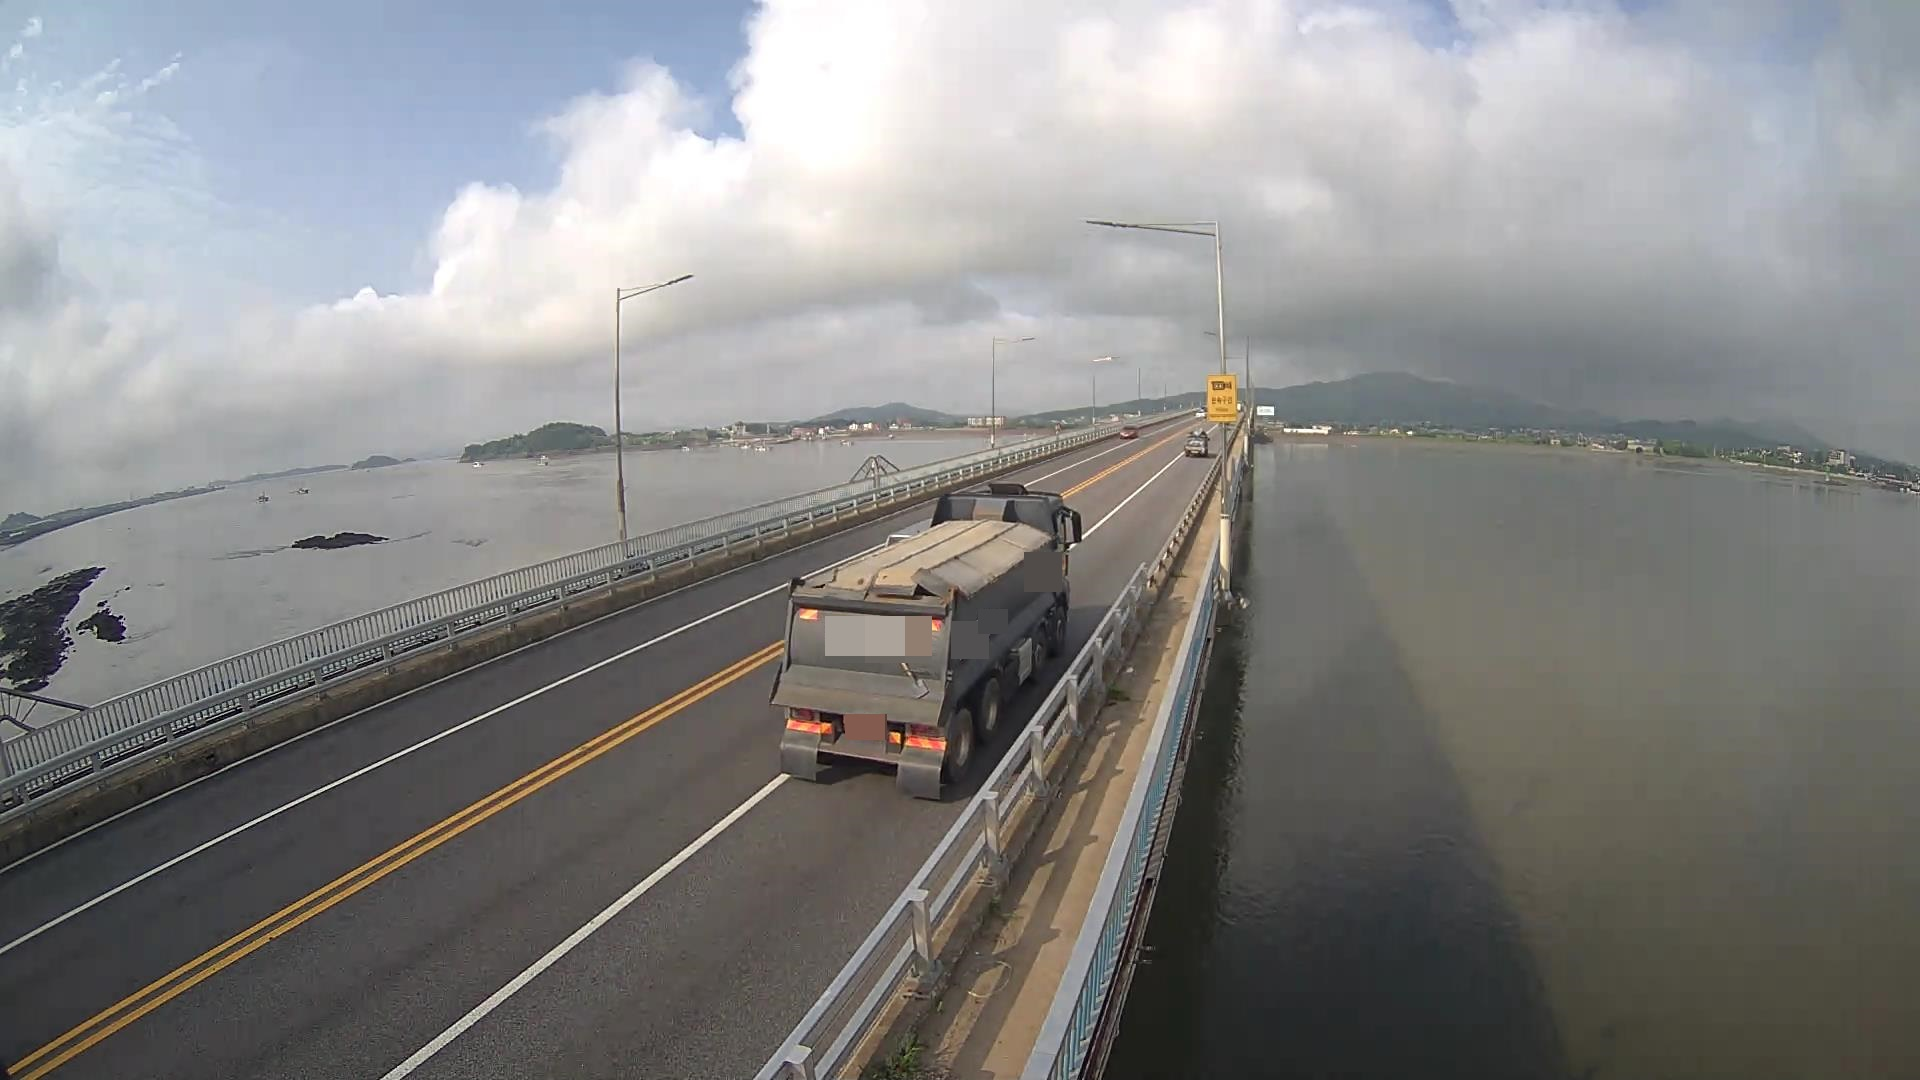정상차량: (769, 481, 1081, 799)
